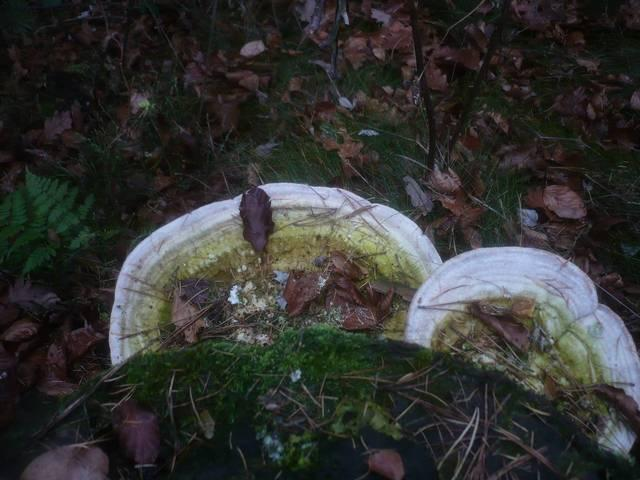poisonous_mushroom: (107, 180, 443, 367), (402, 244, 639, 459)
